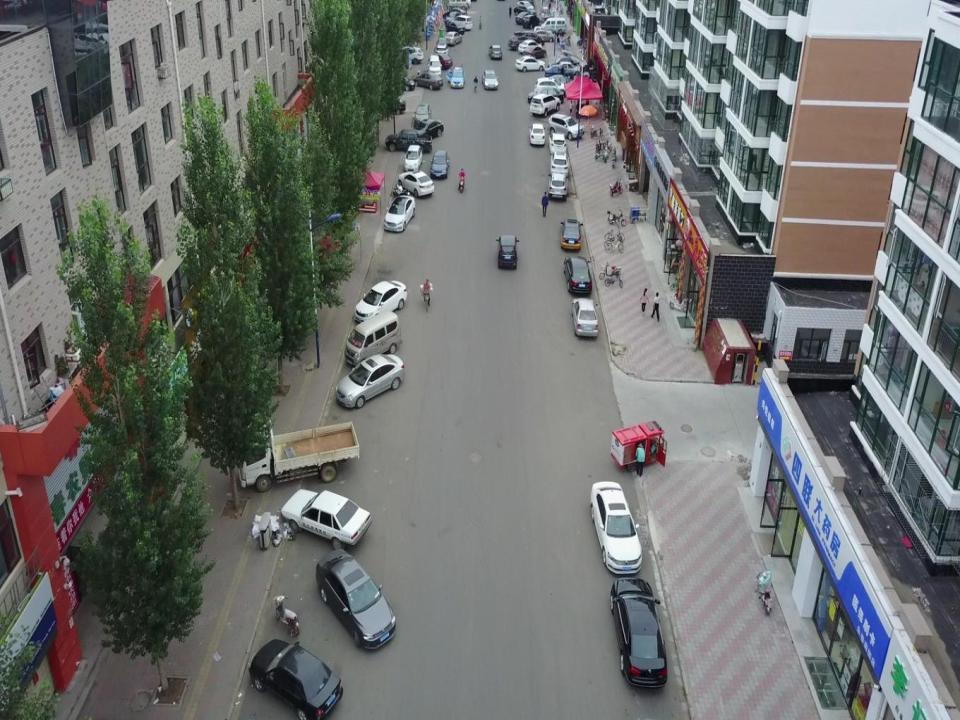car: (316, 547, 396, 650), (249, 637, 343, 720), (609, 578, 669, 689), (282, 488, 373, 550), (590, 480, 644, 574), (336, 352, 404, 408), (354, 280, 407, 326), (384, 195, 416, 232), (564, 255, 592, 294), (571, 297, 598, 337), (397, 170, 435, 197), (548, 113, 584, 141), (495, 234, 519, 268), (530, 92, 562, 117), (408, 119, 444, 139), (560, 219, 583, 250), (373, 94, 406, 114), (527, 86, 565, 103), (390, 45, 424, 63), (534, 77, 568, 95), (385, 72, 415, 92), (411, 72, 444, 90), (548, 172, 569, 200), (430, 150, 450, 178), (541, 74, 576, 90), (515, 54, 546, 72), (543, 64, 574, 81), (548, 56, 580, 72), (550, 152, 570, 175), (413, 103, 431, 128), (550, 61, 580, 76), (548, 132, 567, 155), (515, 29, 544, 44), (528, 122, 546, 146), (508, 34, 535, 50), (518, 38, 543, 54), (446, 66, 465, 87), (430, 52, 452, 68), (450, 15, 473, 30), (481, 70, 498, 90), (516, 10, 537, 25), (522, 46, 546, 58), (435, 37, 449, 57), (513, 4, 536, 16), (444, 31, 462, 46), (522, 14, 541, 28), (532, 30, 554, 42), (443, 7, 467, 18), (446, 21, 466, 34), (488, 44, 502, 60), (516, 0, 534, 11)
truck: (239, 418, 360, 492), (385, 128, 432, 152)
van: (344, 311, 400, 366), (404, 144, 423, 172), (542, 17, 566, 36), (428, 55, 442, 77)
